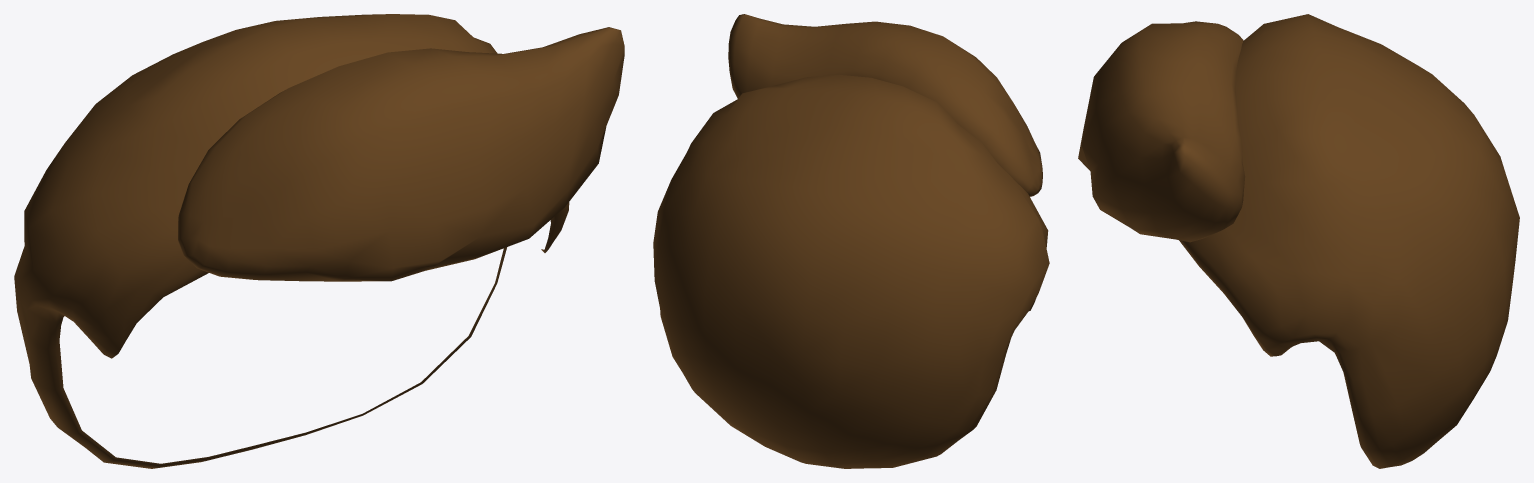
The model's file is hairs.glb.
The picture shows the model from 3 angles, left to right: view 1: azimuth 30°, elevation 25°; view 2: azimuth 150°, elevation 25°; view 3: azimuth 270°, elevation 25°; orthographic projection. The views are drawn at different scales.
Parts seen in each view (by area): view 1: hair_02; view 2: hair_02; view 3: hair_02.
Part boxes in pixels (left/top/right/bottom): hair_02: left=14, top=14, right=624, bottom=468; hair_02: left=653, top=14, right=1049, bottom=468; hair_02: left=1078, top=14, right=1519, bottom=468.
Size of the model in its own units: 0.00953 by 0.00869 by 0.00862.
